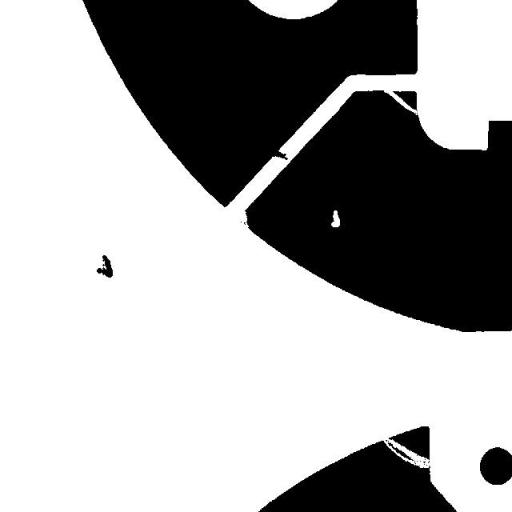copper: (89, 247, 120, 285)
mousebite: (228, 202, 256, 236)
open: (375, 429, 442, 475), (376, 81, 431, 122)
pin-hole: (323, 202, 347, 234)
spur: (261, 141, 295, 167)
